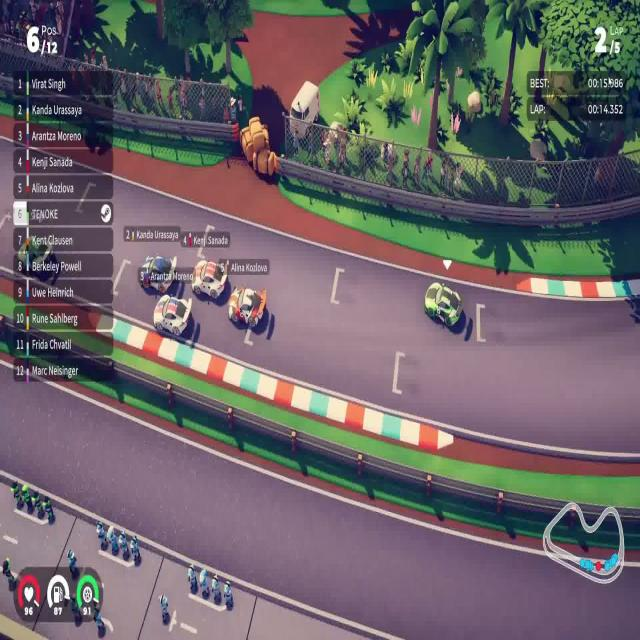car: (423, 280, 462, 330), (227, 284, 267, 329), (152, 293, 192, 338), (137, 252, 177, 294), (191, 256, 229, 300)
